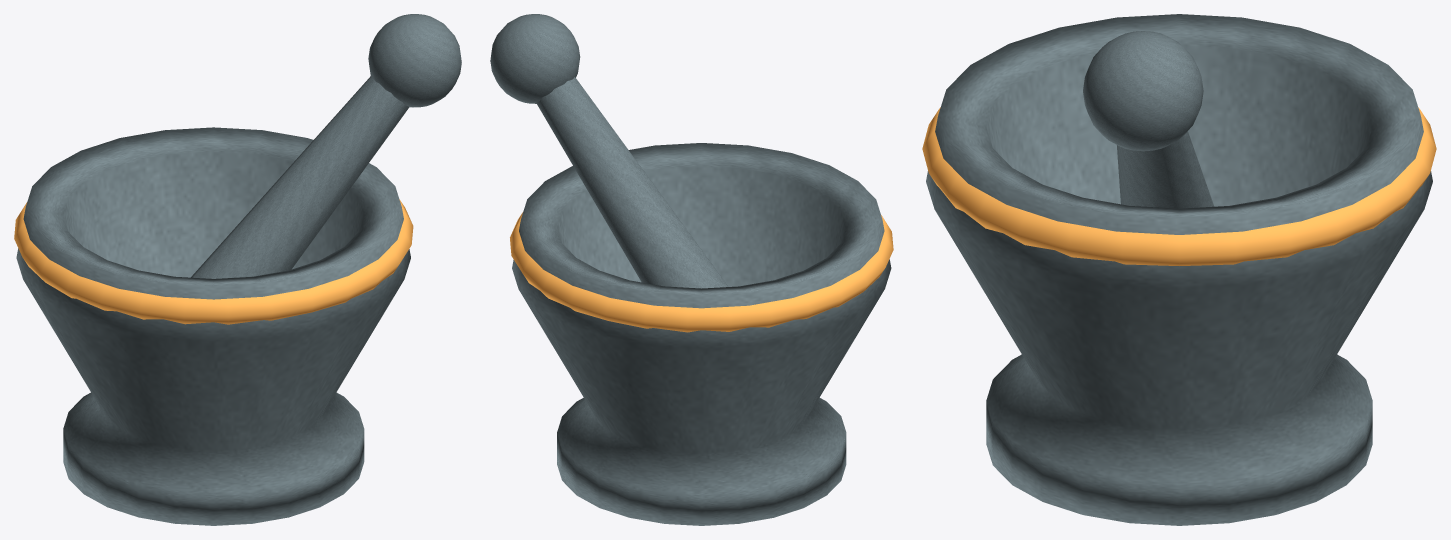
Rendered from hollowwick-halloween-mortar-and-pestle-01047aa9__21608.glb.
3 renders of one model, left to right at view 1: azimuth 30°, elevation 25°; view 2: azimuth 150°, elevation 25°; view 3: azimuth 270°, elevation 25°, orthographic. The views are drawn at different scales.
Visible parts, largest first — view 1: mortar-and-pestle; view 2: mortar-and-pestle; view 3: mortar-and-pestle.
Part boxes in pixels (<box>): mortar-and-pestle: <box>14,14,461,525</box>; mortar-and-pestle: <box>490,14,893,525</box>; mortar-and-pestle: <box>922,14,1436,525</box>.
Size of the model in its own units: 0.493 by 0.48 by 0.426.
2 materials, 1 textured.
